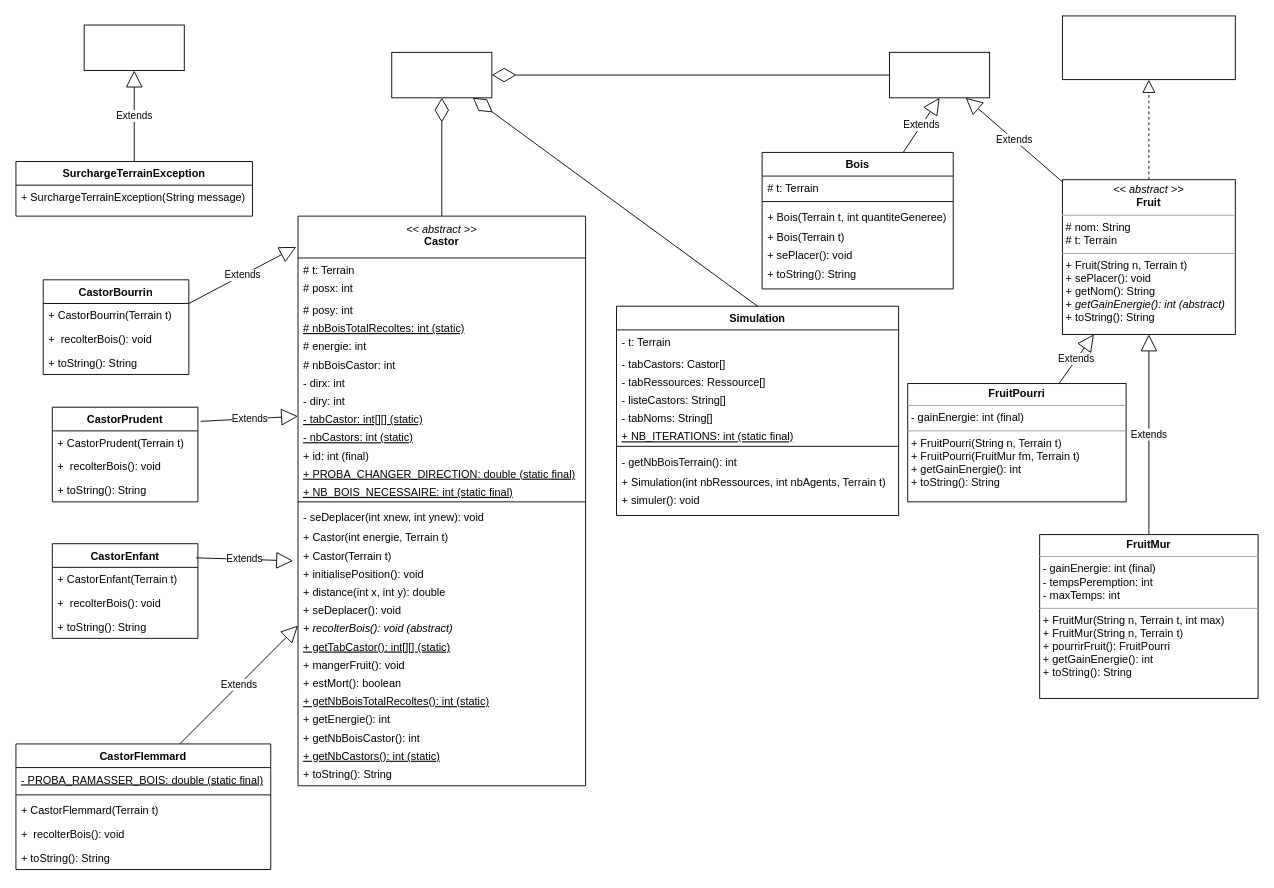
This 1274x888 diagram has some shape labels left out. The box of each missing label's shape, as (x1, y1, x2, y2) in pixels:
<< interface >> Mangeable + getGainEnergie(): int: (1062, 15, 1235, 80)
Exception: (83, 24, 184, 71)
Ressource: (889, 51, 990, 98)
Terrain: (391, 51, 492, 98)
